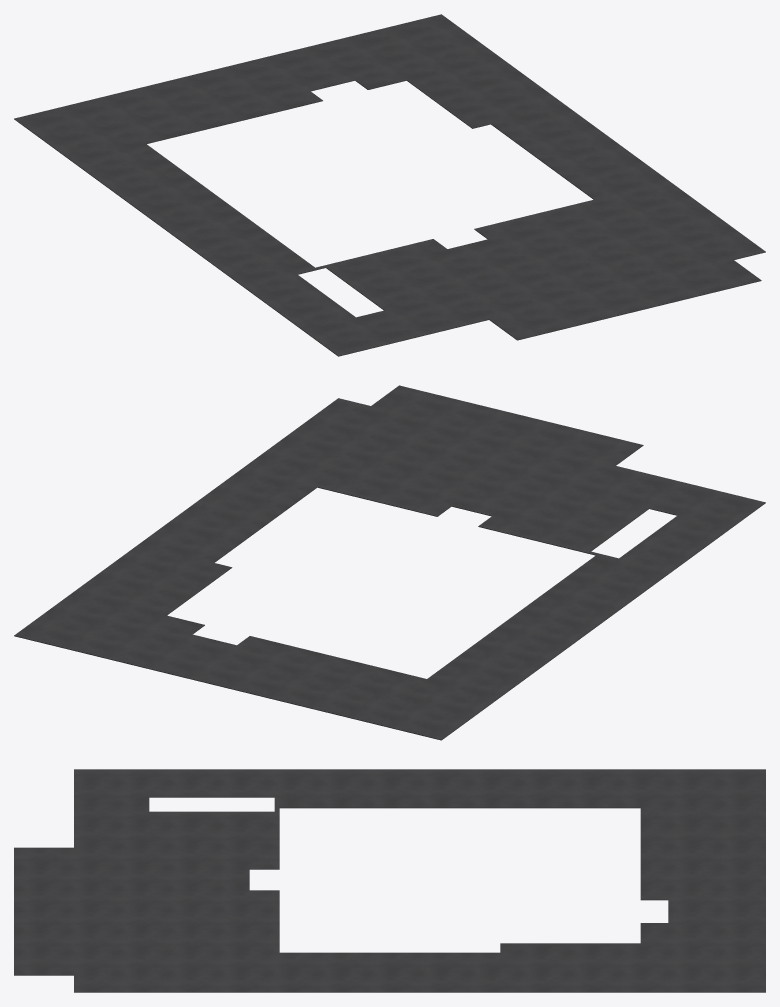
Rendered from asphalt.glb.
3 views of the same model, one above another, from view 1: azimuth 30°, elevation 25°; view 2: azimuth 150°, elevation 25°; view 3: azimuth 270°, elevation 25° (orthographic). The views are drawn at different scales.
Parts seen in each view (by area): view 1: asphalt_asphalt; view 2: asphalt_asphalt; view 3: asphalt_asphalt.
Boxes of the visible parts, left/top/right/bottom form: asphalt_asphalt: left=14, top=14, right=765, bottom=356; asphalt_asphalt: left=14, top=385, right=765, bottom=740; asphalt_asphalt: left=14, top=769, right=765, bottom=992.
Bounding box in the file's own units: 21 × 0.03 × 30.
1 material, 1 textured.
